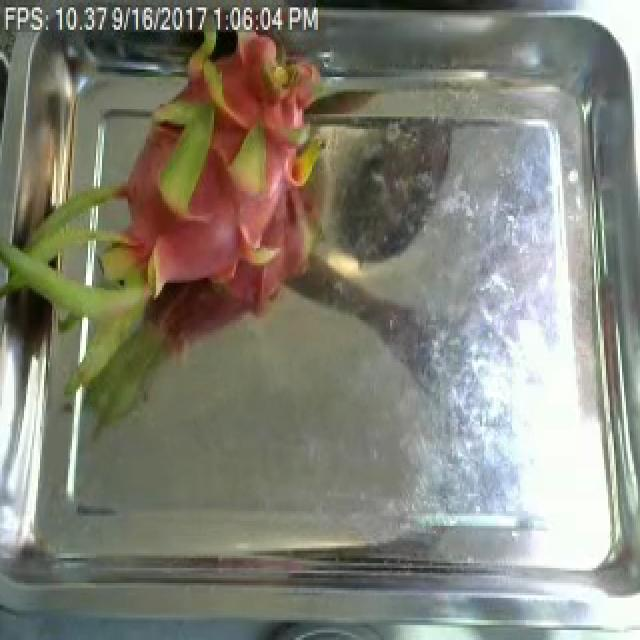fruit: (0, 2, 342, 397)
